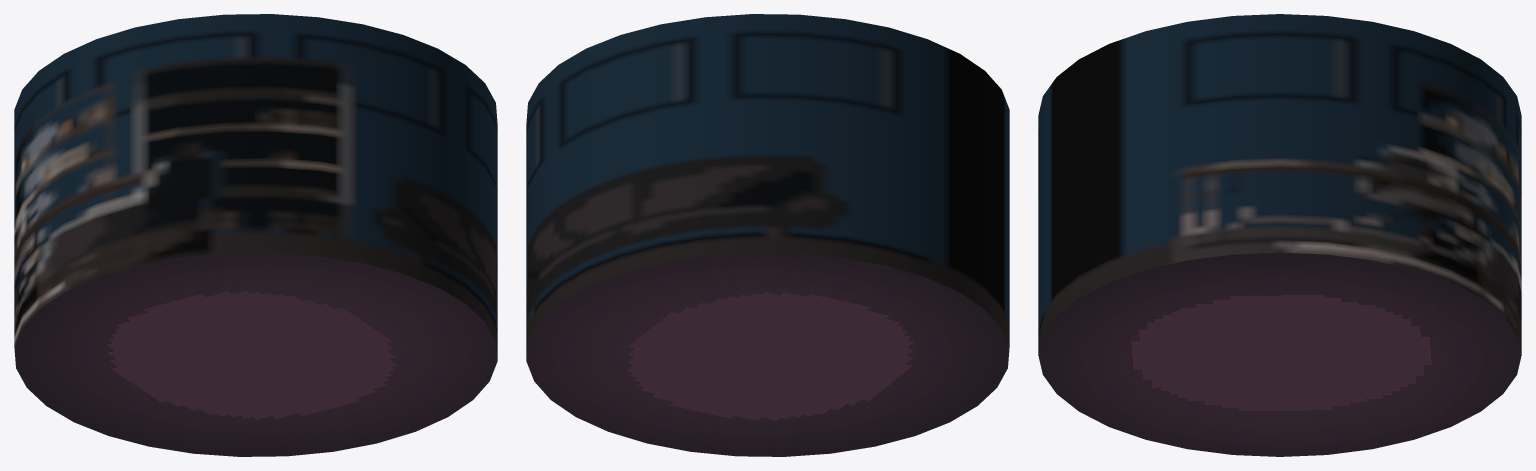
File: Office B.fbx
3 views of the same model, side by side, from view 1: azimuth 30°, elevation 25°; view 2: azimuth 150°, elevation 25°; view 3: azimuth 270°, elevation 25° (orthographic).
Parts seen in each view (by area): view 1: Cylinder; view 2: Cylinder; view 3: Cylinder.
Boxes of the visible parts, <box> form: Cylinder: <box>14,14,497,456</box>; Cylinder: <box>526,14,1009,456</box>; Cylinder: <box>1038,14,1521,456</box>.
Size of the model in its own units: 5774 by 3144 by 5774.
Materials: 2 (2 with a texture image).
